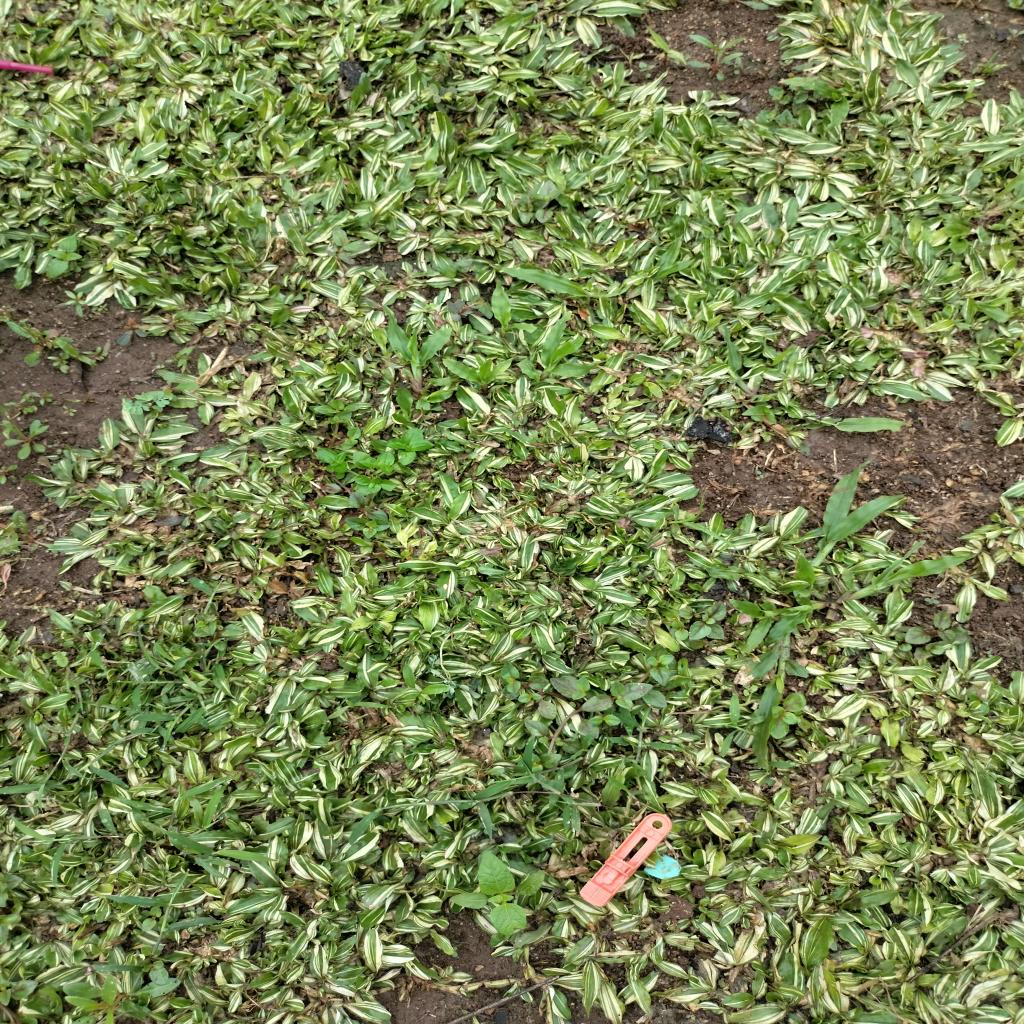bayi: (923, 596, 940, 605), (754, 470, 766, 480), (986, 649, 994, 659)
buah daun: (120, 388, 171, 417), (448, 297, 478, 321)
gingseng jawa: (59, 976, 193, 1024), (0, 304, 76, 368), (688, 32, 748, 86), (2, 507, 60, 562), (1, 418, 52, 461), (30, 390, 59, 406), (61, 404, 80, 418)
rambat atas: (478, 766, 607, 830), (146, 647, 226, 720), (148, 871, 214, 955), (65, 666, 131, 718), (77, 732, 131, 789), (12, 813, 82, 849), (55, 713, 88, 779), (1, 776, 58, 807), (186, 575, 230, 613), (161, 703, 198, 748), (720, 692, 744, 757), (166, 779, 200, 821)
rambat bawah: (834, 551, 976, 607), (824, 461, 909, 543), (756, 631, 808, 758), (728, 586, 853, 636), (384, 316, 452, 396), (516, 311, 592, 382), (783, 75, 851, 129), (440, 356, 515, 392), (806, 409, 913, 434), (494, 278, 522, 340), (725, 352, 760, 399), (52, 336, 99, 370)
tunggang besar: (448, 849, 548, 943), (45, 234, 88, 278)
tunggang tengah: (324, 222, 374, 268)
ungu tunggang: (553, 673, 668, 728), (904, 610, 967, 656), (510, 179, 564, 226), (383, 425, 439, 468), (499, 659, 552, 704), (686, 599, 726, 643), (316, 397, 362, 425), (343, 514, 396, 537), (316, 444, 352, 474), (354, 473, 400, 494)
